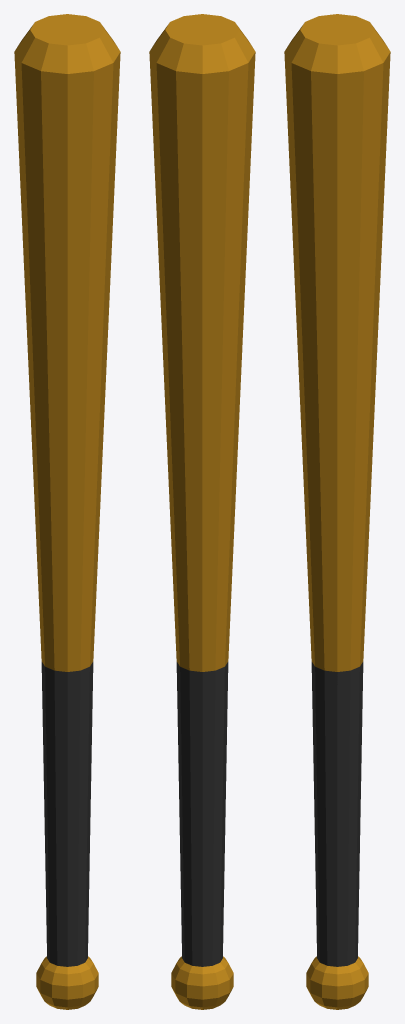
File: Beyzbol.fbx
3 renders of one model, left to right at view 1: azimuth 30°, elevation 25°; view 2: azimuth 210°, elevation 25°; view 3: azimuth 330°, elevation 25°, orthographic.
Visible parts, largest first — view 1: bat; view 2: bat; view 3: bat.
Boxes of the visible parts, x1,y1,x2,y2 form: bat: [14, 14, 120, 1009]; bat: [149, 14, 255, 1009]; bat: [284, 14, 390, 1009].
Bounding box in the file's own units: 8.06 × 81.41 × 8.06.
Materials: 1 (1 with a texture image).
